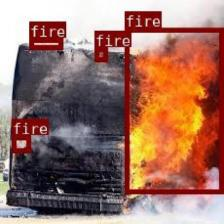fire: (124, 27, 222, 192), (28, 37, 61, 49), (11, 134, 30, 152), (94, 46, 106, 60)
